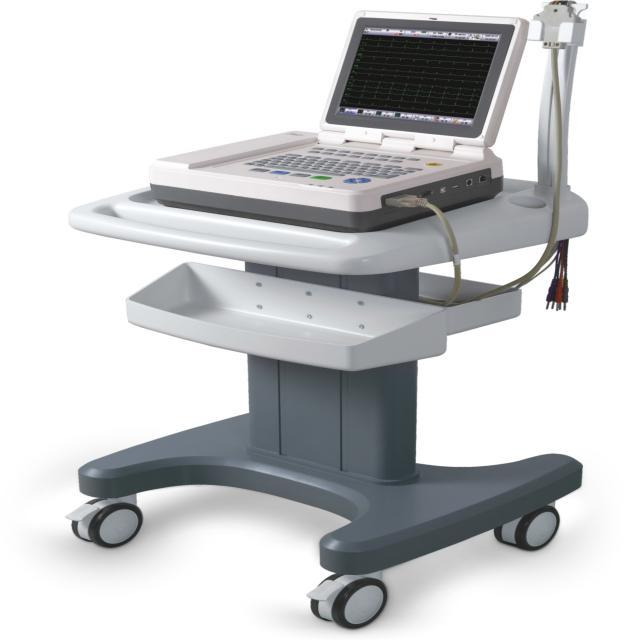Monitor: (59, 3, 640, 632)
